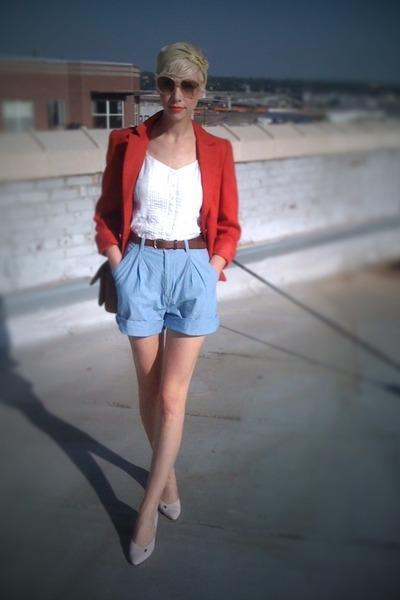bag: (91, 261, 121, 312)
jacket: (94, 122, 240, 268)
shirt: (132, 157, 202, 240)
shoe: (132, 532, 155, 563)
shorts: (112, 228, 218, 335)
sunglass: (158, 77, 195, 107)
